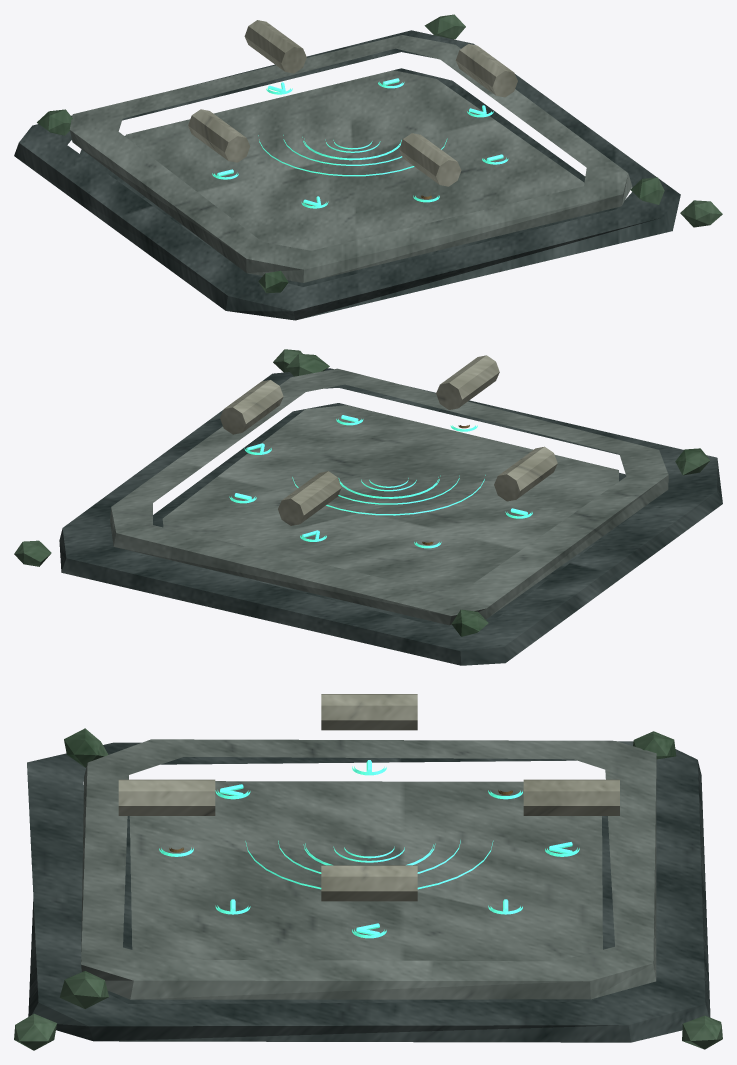
Rendered from 0560_rune_dais_10.glb.
3 views of the same model, one above another, from view 1: azimuth 30°, elevation 25°; view 2: azimuth 150°, elevation 25°; view 3: azimuth 270°, elevation 25° (orthographic). The views are drawn at different scales.
Visible parts, largest first — view 1: stone, stone_dark, stone_light, moss, glow; view 2: stone, stone_dark, stone_light, moss, glow; view 3: stone, stone_dark, stone_light, moss, glow.
Boxes of the visible parts, <box> form: stone: <box>69,35,632,282</box>; stone_dark: <box>14,30,680,320</box>; stone_light: <box>188,20,517,186</box>; moss: <box>37,14,722,293</box>; glow: <box>212,78,508,208</box>; stone: <box>110,368,668,625</box>; stone_dark: <box>59,368,722,665</box>; stone_light: <box>220,355,557,525</box>; moss: <box>14,349,710,636</box>; glow: <box>229,415,532,548</box>; stone: <box>81,739,656,999</box>; stone_dark: <box>27,741,710,1042</box>; stone_light: <box>118,694,619,901</box>; moss: <box>14,728,722,1050</box>; glow: <box>159,760,579,938</box>.
Size of the model in its own units: 3.63 by 0.7175 by 3.68.
Materials: 6 (6 with a texture image).
